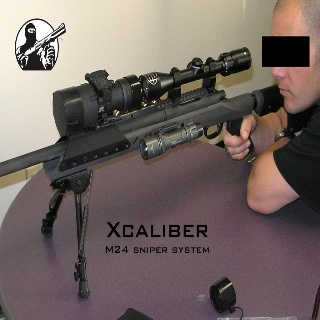rifle: (1, 49, 288, 187)
